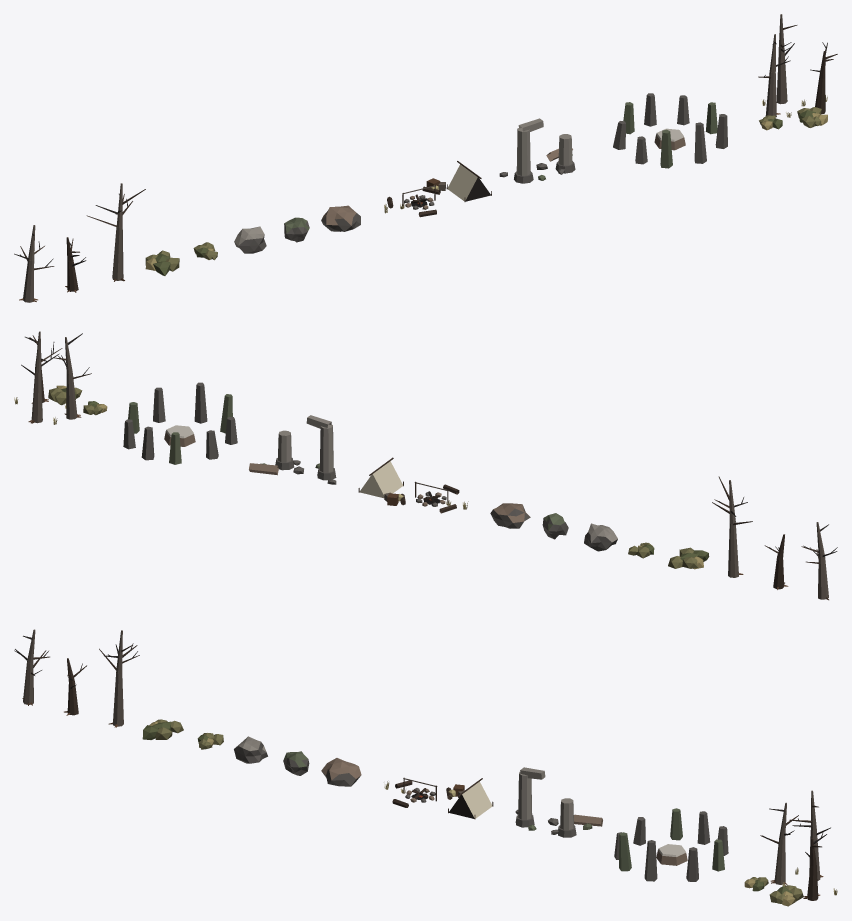
The model's file is zone1-kit.glb.
3 renders of one model, top to bottom at view 1: azimuth 30°, elevation 25°; view 2: azimuth 150°, elevation 25°; view 3: azimuth 330°, elevation 25°, orthographic.
Visible parts, largest first — view 1: landmark_stone_circle, landmark_grove, landmark_ruin_arch, landmark_camp, tree_dead_c, boulder_c, tree_dead_a, boulder_a, bush_scrub_a; view 2: landmark_stone_circle, landmark_grove, landmark_ruin_arch, landmark_camp, tree_dead_c, boulder_c, tree_dead_a, boulder_a, bush_scrub_a; view 3: landmark_stone_circle, landmark_grove, landmark_ruin_arch, landmark_camp, tree_dead_c, boulder_c, tree_dead_a, boulder_a, bush_scrub_a.
Part boxes in pixels (box(x1,y1,x2,y2)): landmark_stone_circle: box(613, 93, 727, 168); landmark_grove: box(758, 14, 837, 130); landmark_ruin_arch: box(499, 118, 575, 183); landmark_camp: box(387, 161, 491, 217); tree_dead_c: box(86, 183, 145, 281); boulder_c: box(321, 205, 360, 231); tree_dead_a: box(14, 225, 54, 302); boulder_a: box(234, 226, 266, 253); bush_scrub_a: box(145, 250, 179, 275); landmark_stone_circle: box(123, 382, 237, 464); landmark_grove: box(14, 331, 107, 424); landmark_ruin_arch: box(249, 415, 336, 484); landmark_camp: box(358, 457, 459, 513); tree_dead_c: box(712, 476, 752, 577); boulder_c: box(490, 503, 530, 528); tree_dead_a: box(801, 522, 837, 600); boulder_a: box(584, 523, 617, 551); bush_scrub_a: box(668, 547, 709, 569); landmark_stone_circle: box(614, 808, 728, 881); landmark_grove: box(744, 790, 837, 906); landmark_ruin_arch: box(515, 767, 602, 837); landmark_camp: box(392, 777, 493, 819); tree_dead_c: box(99, 630, 139, 727); boulder_c: box(321, 758, 361, 786); tree_dead_a: box(14, 629, 49, 705); boulder_a: box(234, 736, 267, 763); bush_scrub_a: box(142, 719, 183, 739).
Size of the model in its own units: 58.63 by 6.98 by 7.19.
1 material, 1 textured.
